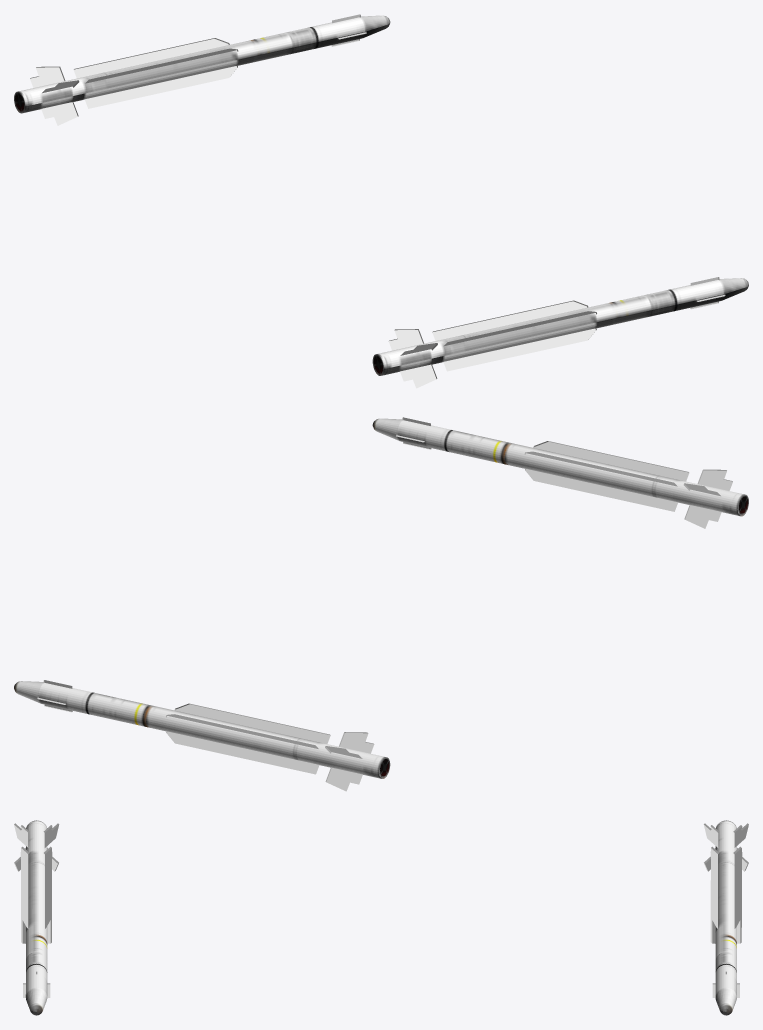
File: rafalemicair381.glb
3 renders of one model, top to bottom at view 1: azimuth 30°, elevation 25°; view 2: azimuth 150°, elevation 25°; view 3: azimuth 270°, elevation 25°, orthographic. The views are drawn at different scales.
Parts seen in each view (by area): view 1: 円柱.020, 円柱.019; view 2: 円柱.019, 円柱.020; view 3: 円柱.020, 円柱.019.
Boxes of the visible parts, x1=… form: 円柱.020: x1=14, y1=14, x2=390, y2=125; 円柱.019: x1=372, y1=277, x2=748, y2=388; 円柱.019: x1=372, y1=417, x2=748, y2=528; 円柱.020: x1=14, y1=680, x2=390, y2=791; 円柱.020: x1=703, y1=820, x2=748, y2=1015; 円柱.019: x1=14, y1=820, x2=59, y2=1015.
Size of the model in its own units: 3.55 by 0.3914 by 6.35.
1 material, 1 textured.
